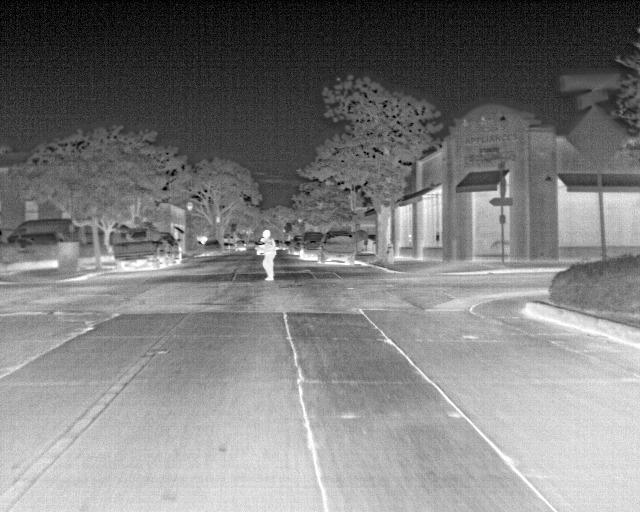bicycle: (114, 236, 166, 269), (316, 228, 359, 264), (10, 218, 76, 236), (299, 230, 323, 260), (162, 235, 182, 265), (202, 238, 222, 256), (286, 235, 299, 256), (234, 239, 248, 253)
empty: (258, 234, 277, 281)
